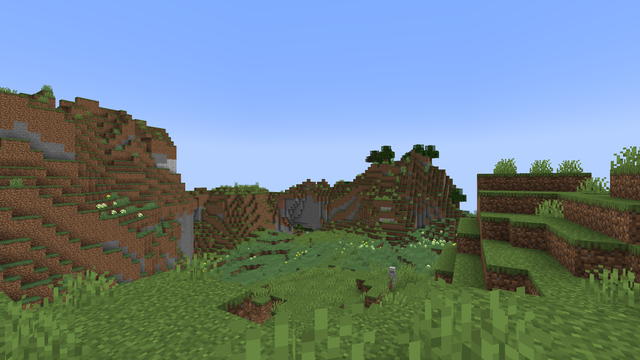squelettes: (388, 266, 395, 289)
